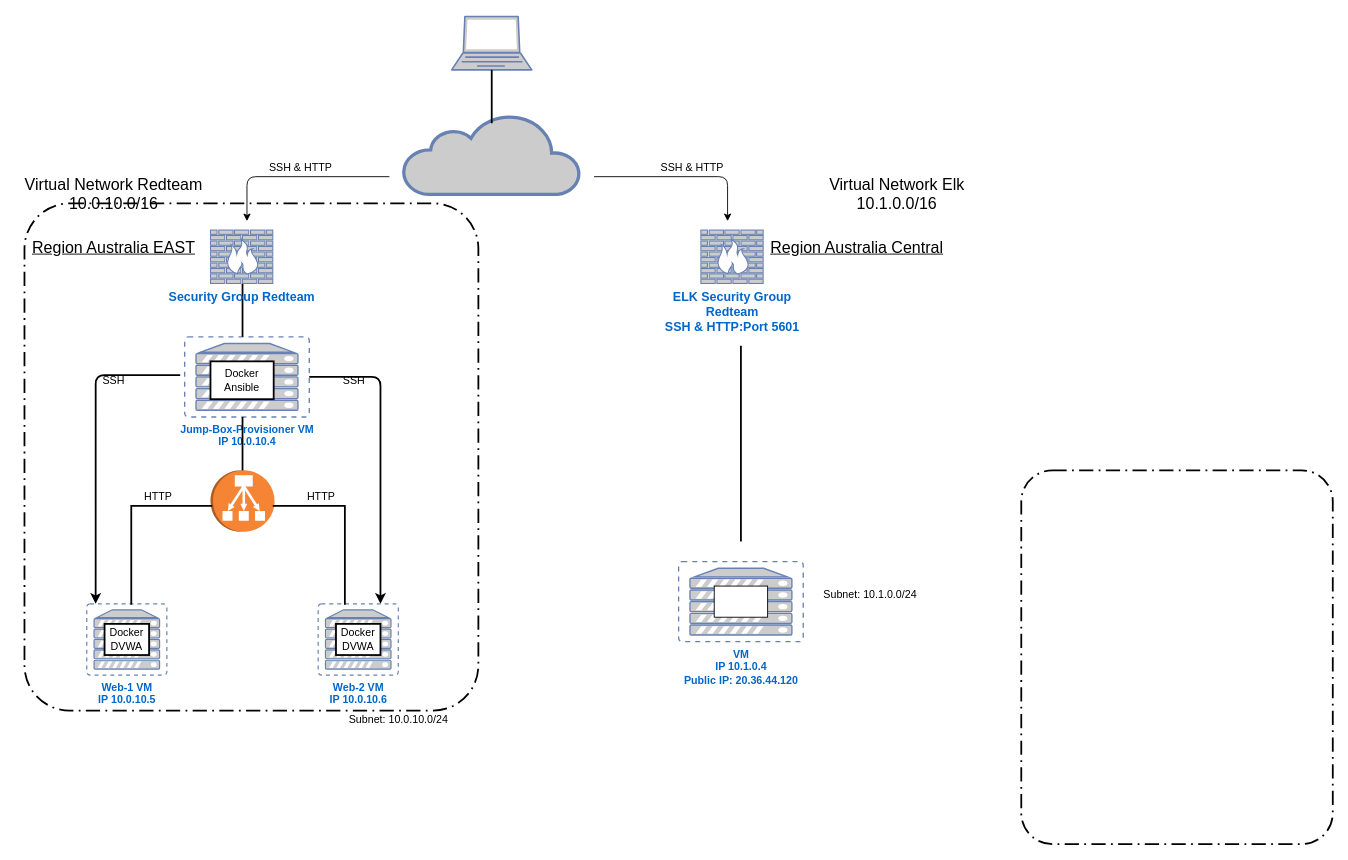
Image size: 1348x860. Some labels were removed from this diagram. The shapes that lost their labels are listed below. From the top down, each one's centre as x and y in pixels, then its label:
At (x=491, y=42): "My Laptop".
At (x=491, y=154): "Internet".
At (x=242, y=500): "Load Balancer DVWA-LB".
At (x=740, y=601): "Docker ELK".
